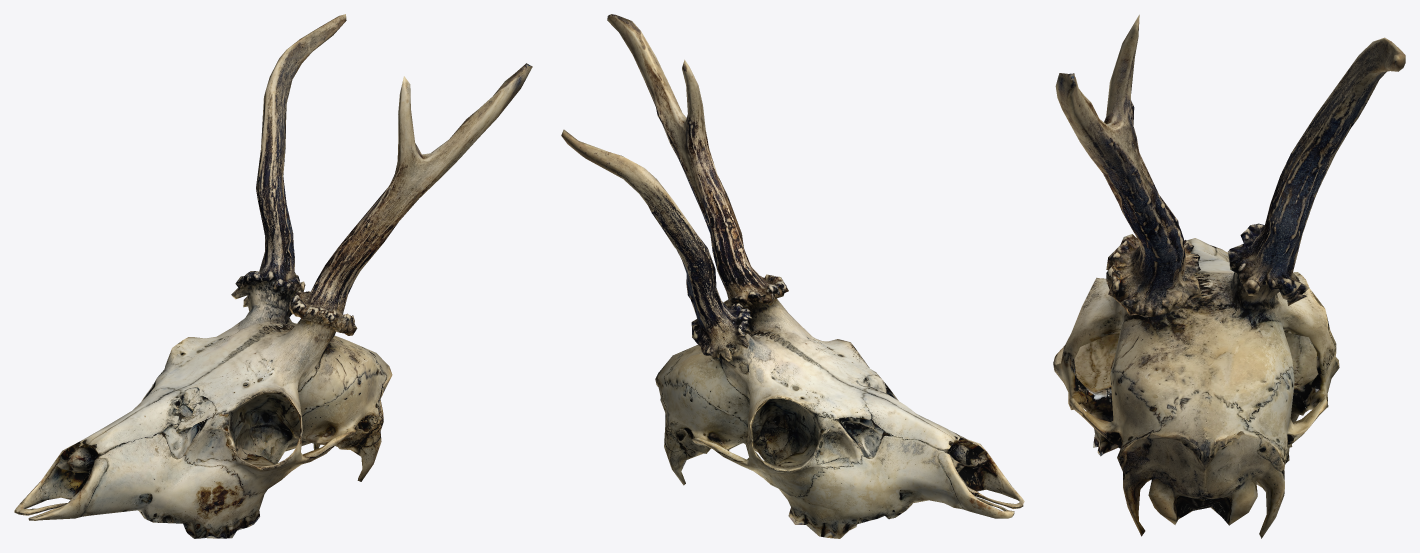
File: sm_SkullDeer_01_01.fbx
3 views of the same model, side by side, from view 1: azimuth 30°, elevation 25°; view 2: azimuth 150°, elevation 25°; view 3: azimuth 270°, elevation 25° (orthographic). The views are drawn at different scales.
Visible parts, largest first — view 1: sm_SkullDeer_01_01_LOD0; view 2: sm_SkullDeer_01_01_LOD0; view 3: sm_SkullDeer_01_01_LOD0.
Boxes of the visible parts, bbox=[...] form: sm_SkullDeer_01_01_LOD0: bbox=[14, 14, 532, 538]; sm_SkullDeer_01_01_LOD0: bbox=[561, 14, 1024, 538]; sm_SkullDeer_01_01_LOD0: bbox=[1053, 14, 1405, 538].
Size of the model in its own units: 51.42 by 24.12 by 43.33.
